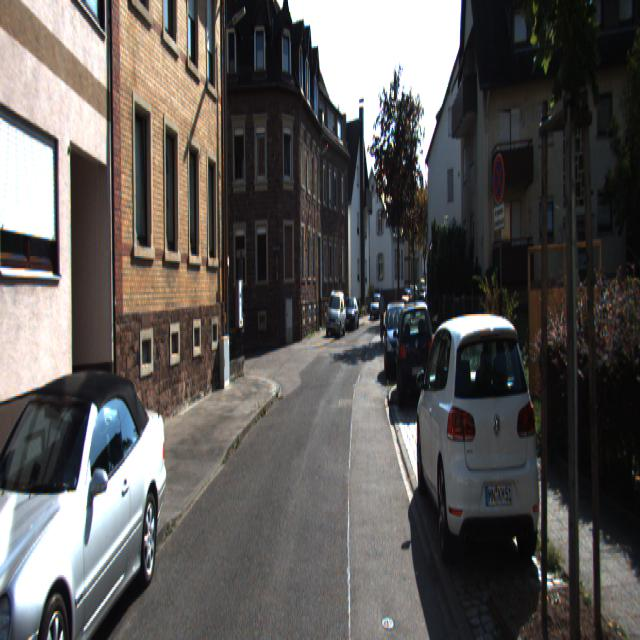Car: (0, 354, 171, 638), (413, 303, 560, 588), (394, 294, 436, 412), (383, 296, 413, 380), (325, 290, 347, 338), (342, 295, 358, 331)
